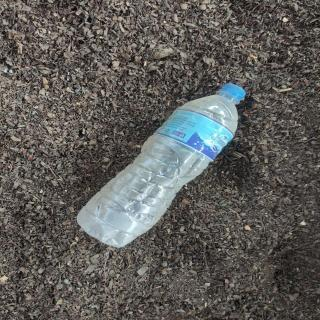Plastic-bottle: (71, 78, 249, 250)
